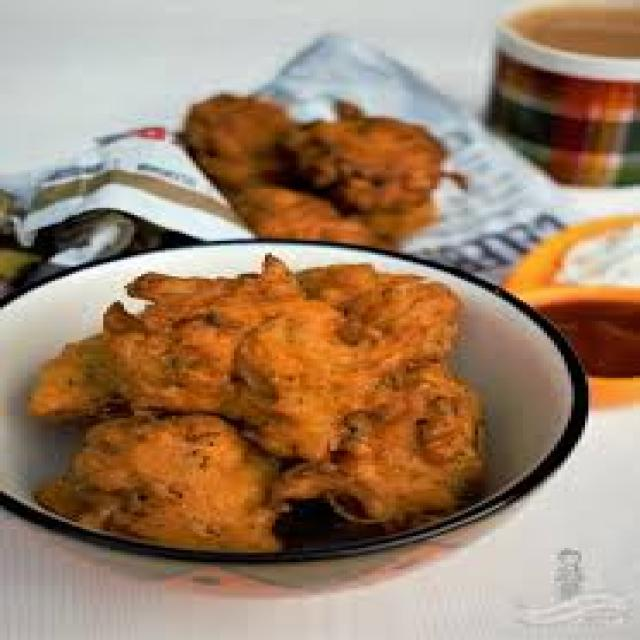BAJI: (22, 271, 486, 549)
